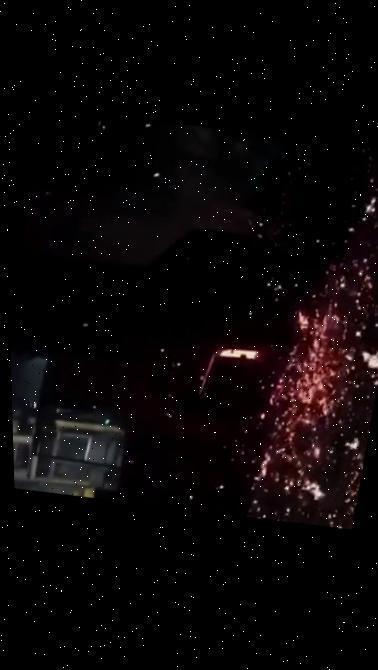fire: (120, 308, 366, 534)
